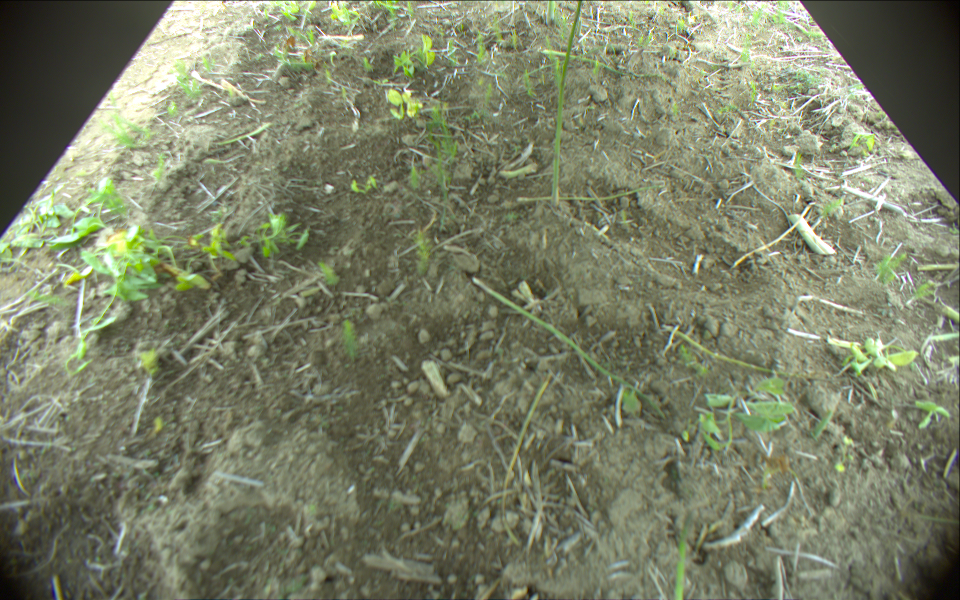aspa: (468, 276, 632, 385), (667, 326, 842, 380), (552, 1, 582, 205), (518, 183, 660, 205), (542, 49, 623, 76), (675, 512, 692, 600)
